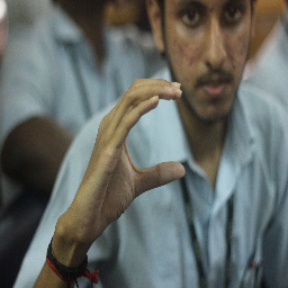C: (99, 72, 195, 195)
